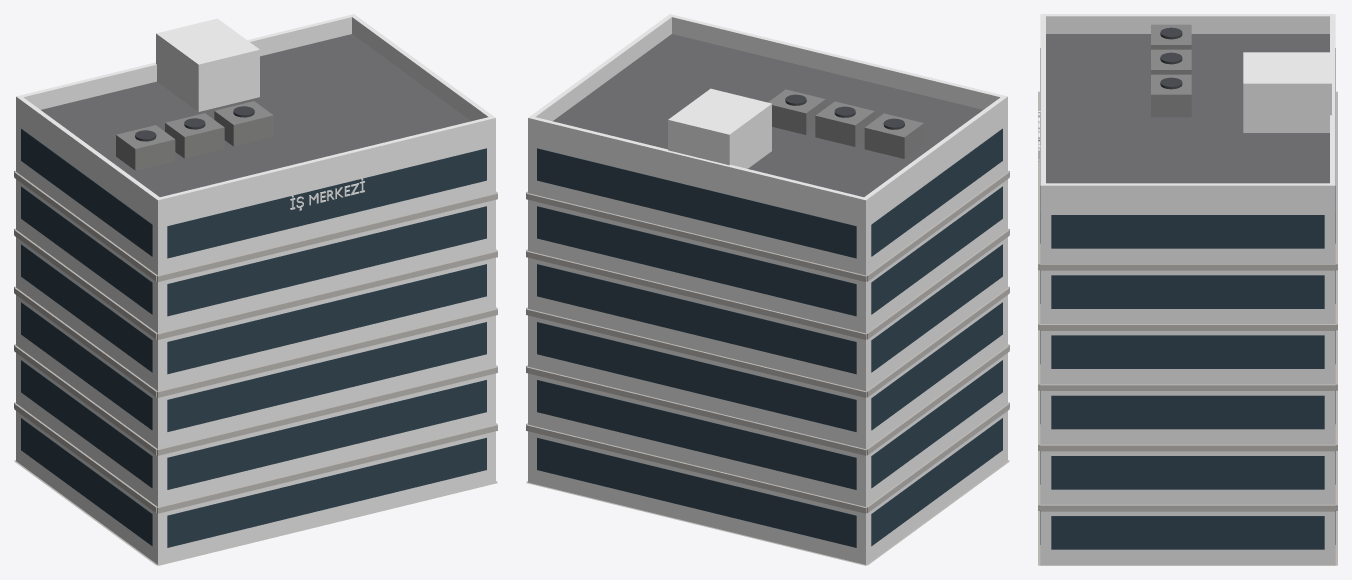
File: bina_14_ust.glb
3 renders of one model, left to right at view 1: azimuth 30°, elevation 25°; view 2: azimuth 150°, elevation 25°; view 3: azimuth 270°, elevation 25°, orthographic. The views are drawn at different scales.
Visible parts, largest first — view 1: P14_ust; view 2: P14_ust; view 3: P14_ust.
Boxes of the visible parts, left/top/right/bottom form: P14_ust: left=14, top=14, right=497, bottom=565; P14_ust: left=526, top=14, right=1009, bottom=565; P14_ust: left=1038, top=14, right=1337, bottom=565.
Bounding box in the file's own units: 22.24 × 24.6 × 16.24.
